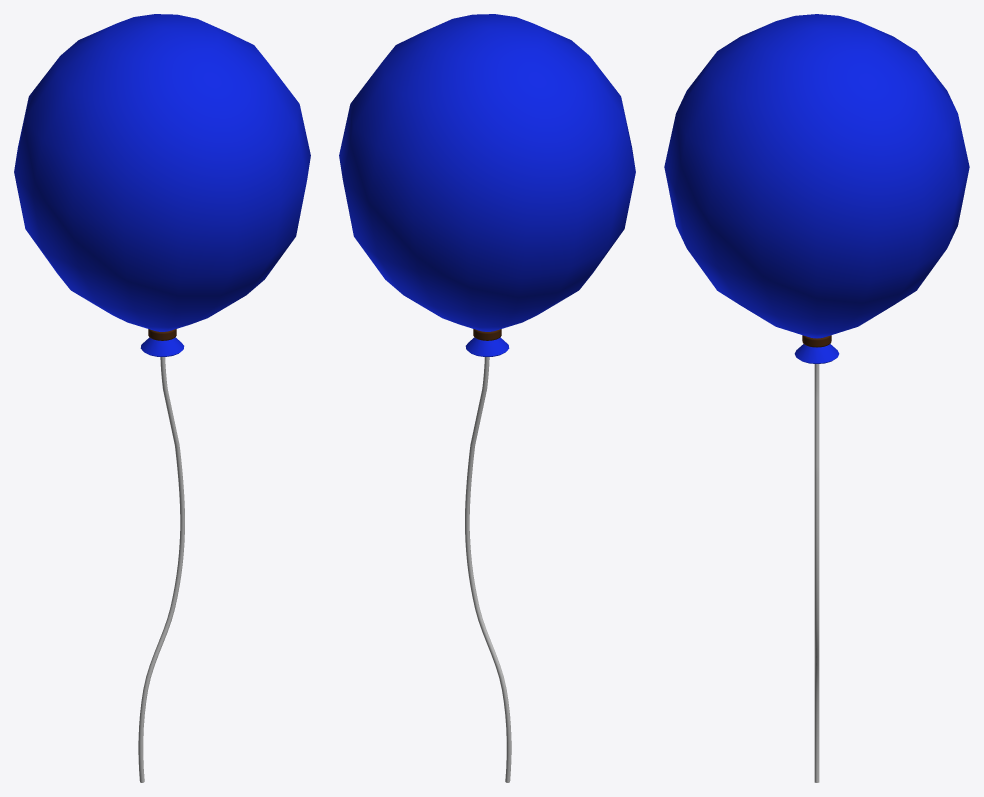
File: Balloon_Blue.FBX
The picture shows the model from 3 angles, left to right: view 1: azimuth 30°, elevation 25°; view 2: azimuth 150°, elevation 25°; view 3: azimuth 270°, elevation 25°; orthographic projection.
Parts seen in each view (by area): view 1: Sphere001; view 2: Sphere001; view 3: Sphere001.
Boxes of the visible parts, x1,y1,x2,y2 form: Sphere001: (14,14,310,782); Sphere001: (339,14,635,782); Sphere001: (664,14,969,782).
Bounding box in the file's own units: 62.15 × 172 × 62.15.
